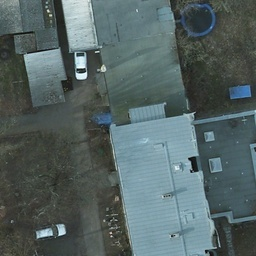car: (34, 221, 66, 241), (74, 49, 88, 81)
